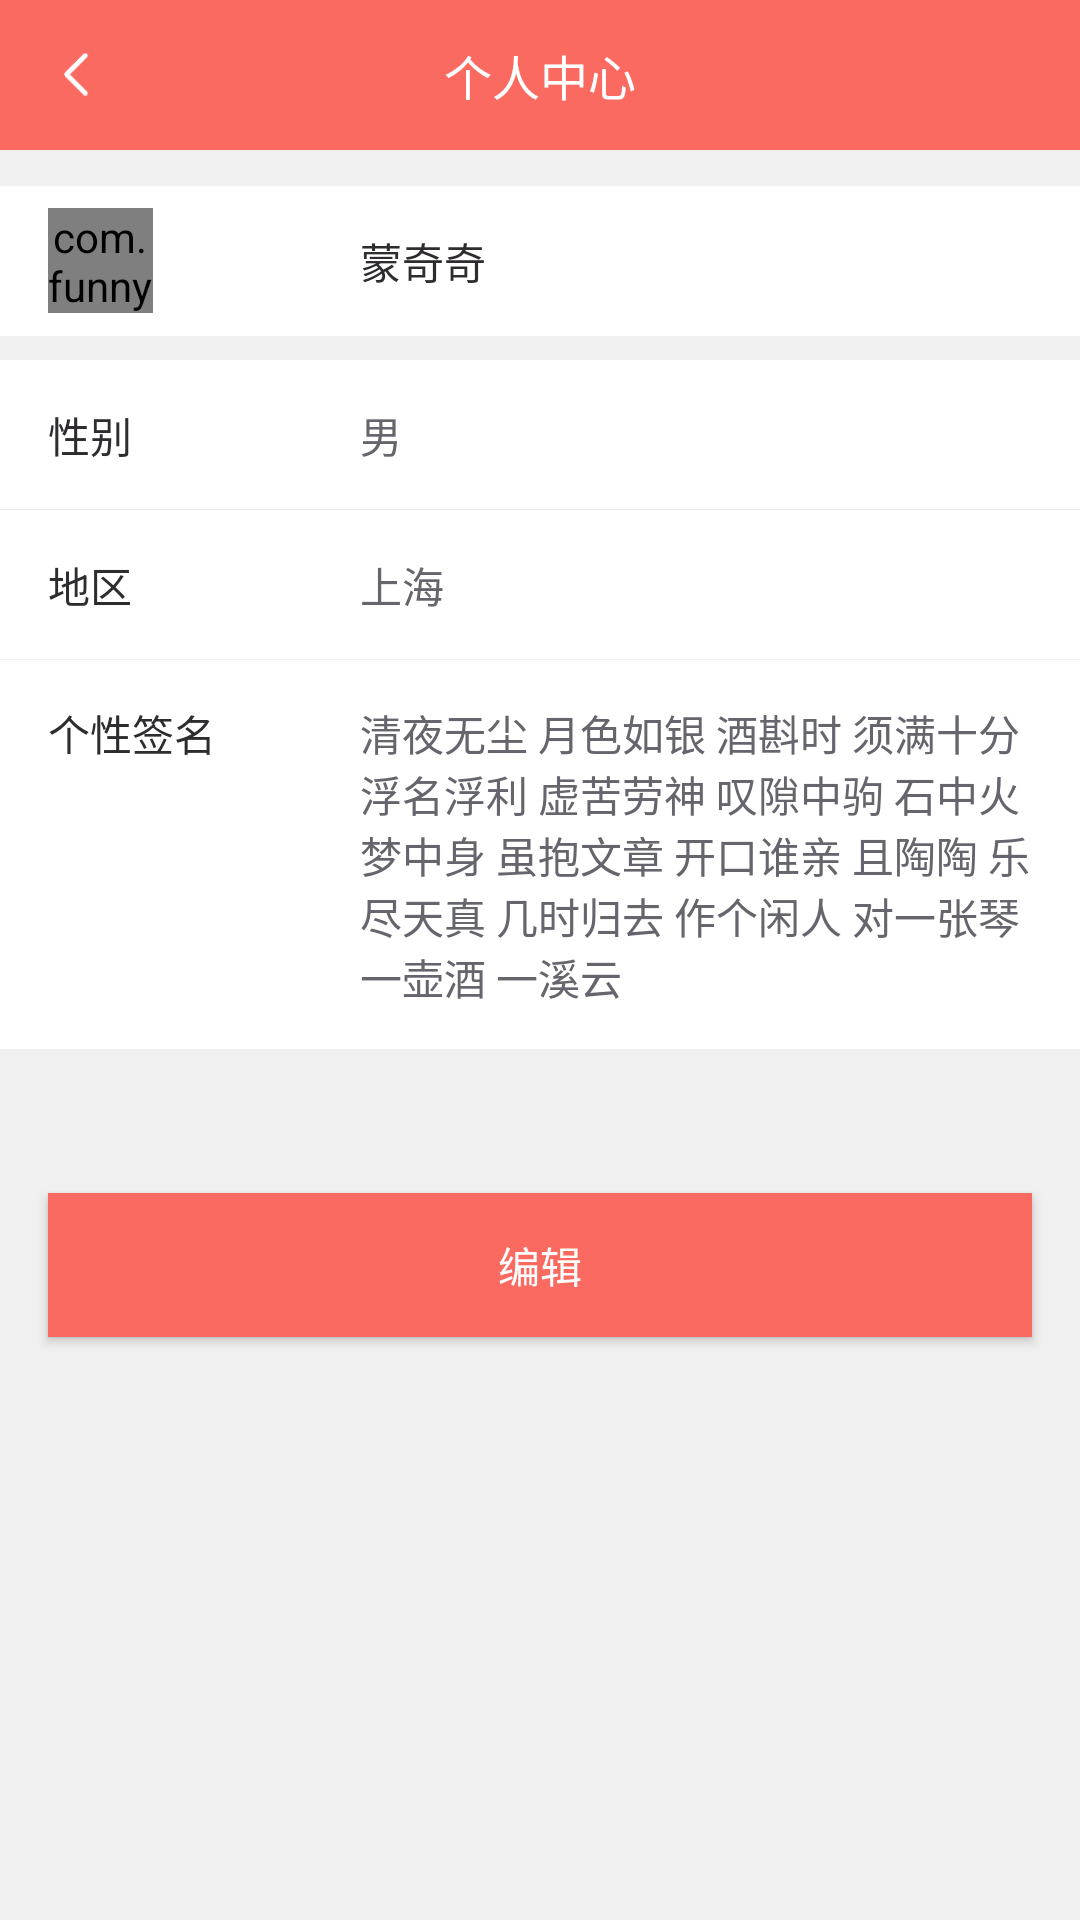

Icons on this 1080px x 1920px Android screen, each with its box as box(x1, y1, x2, y2):
back: box(64, 53, 88, 96)
